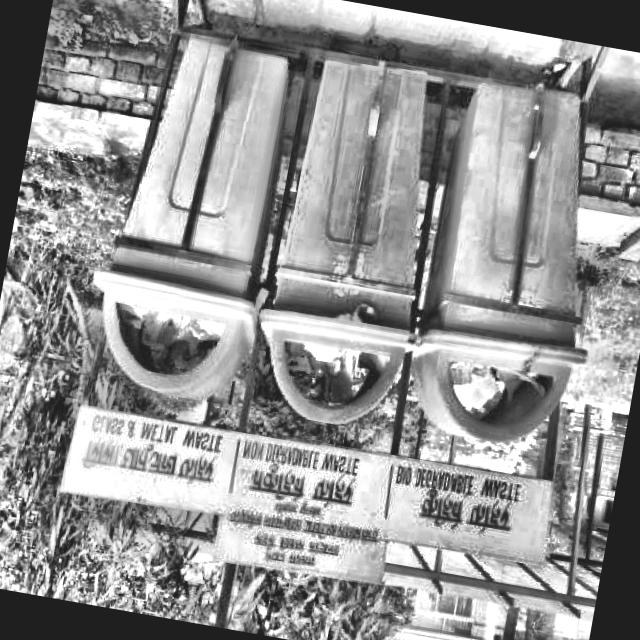Dustbin: (392, 58, 635, 470), (67, 16, 316, 417), (238, 39, 462, 452)
